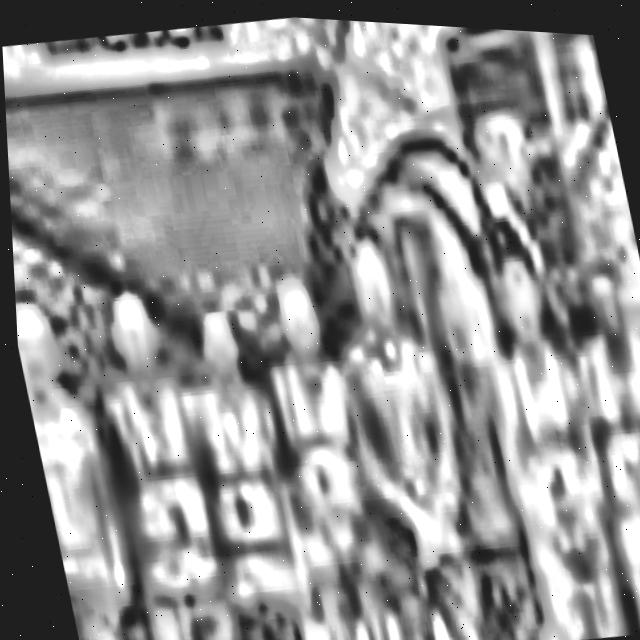dump_truck: (0, 0, 636, 322)
